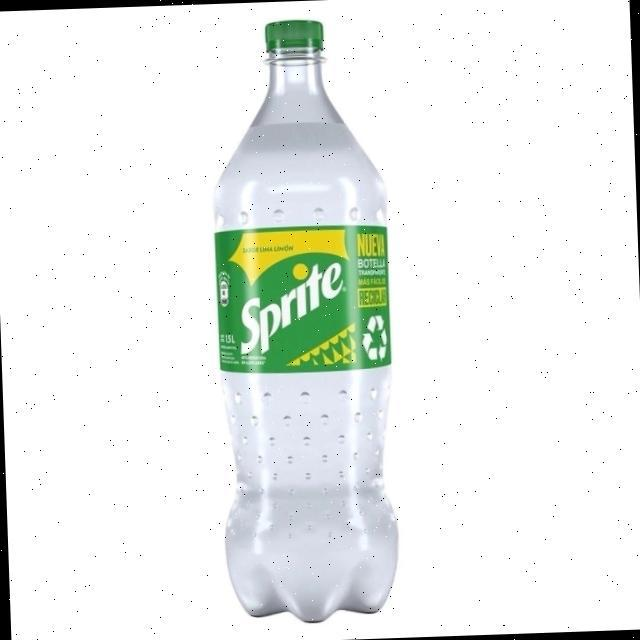sprite: (193, 8, 417, 629)
